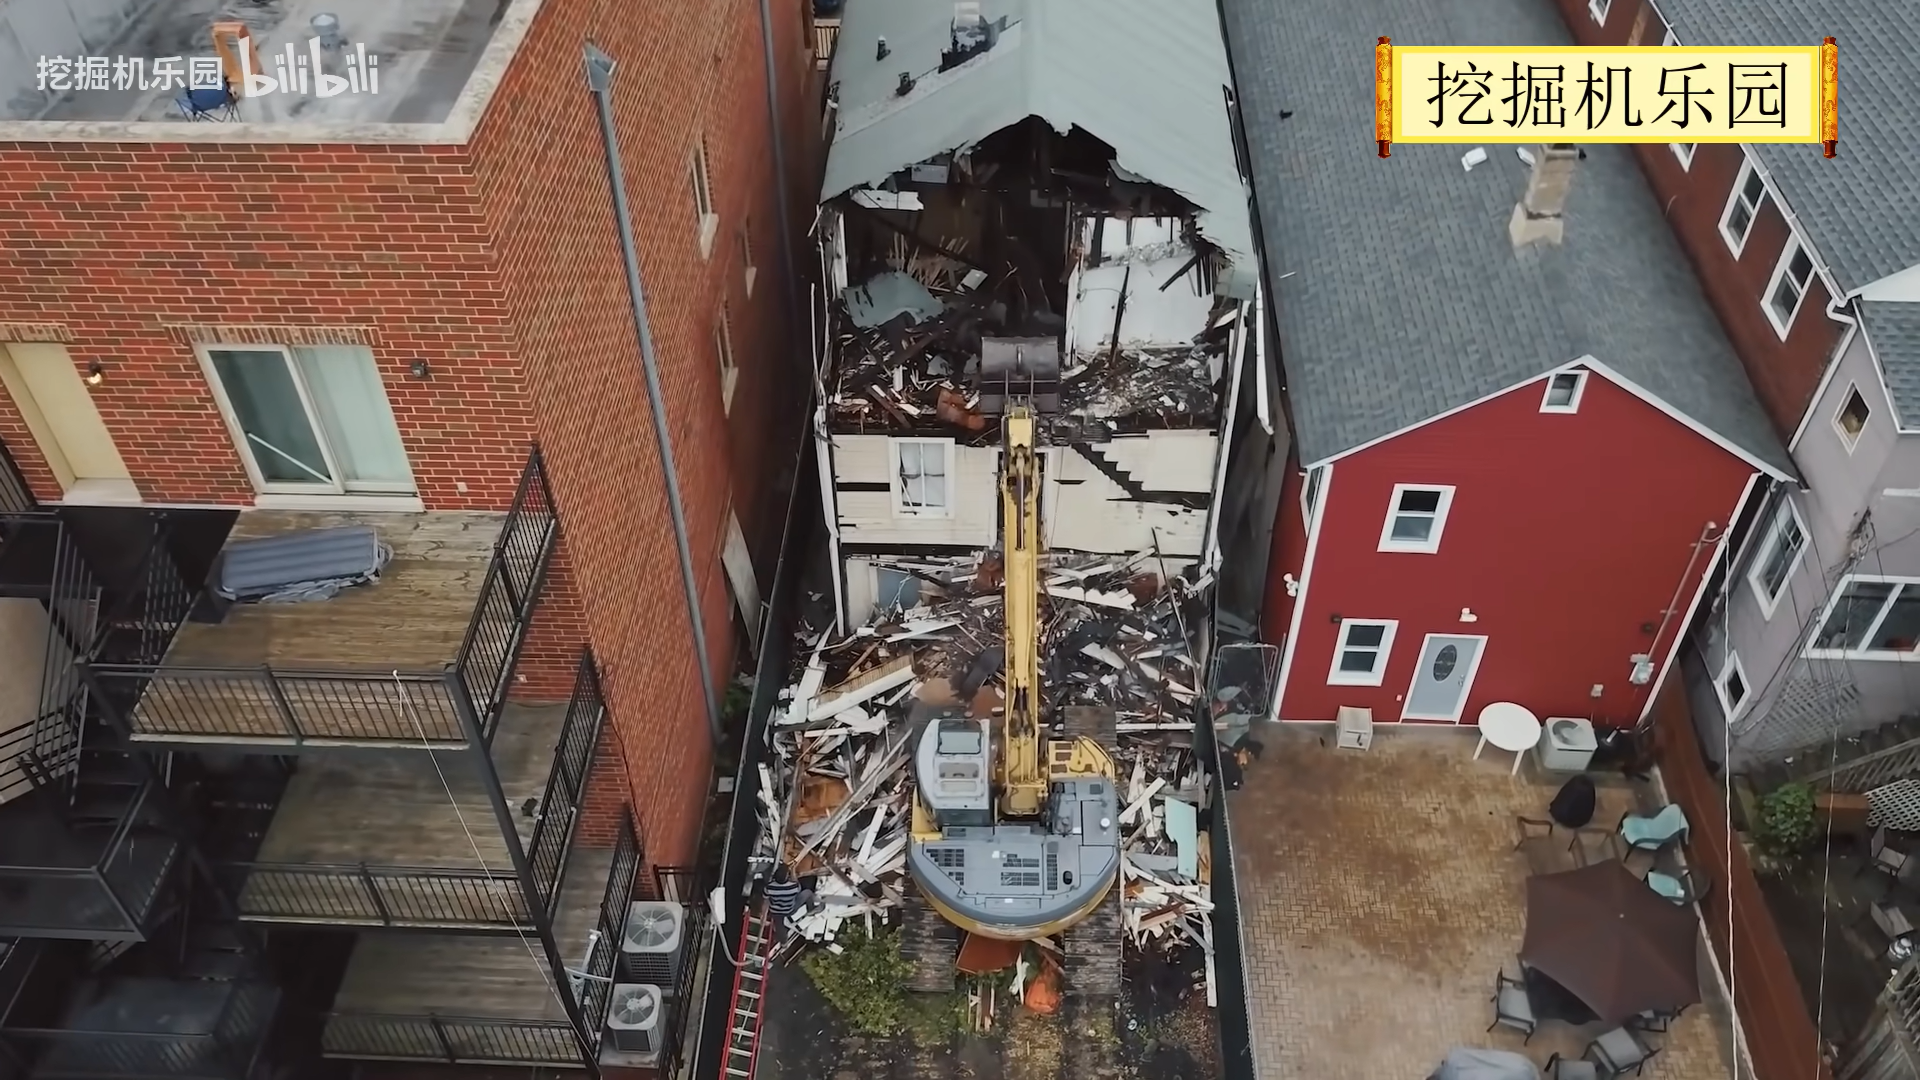excavator: (910, 309, 1163, 939)
